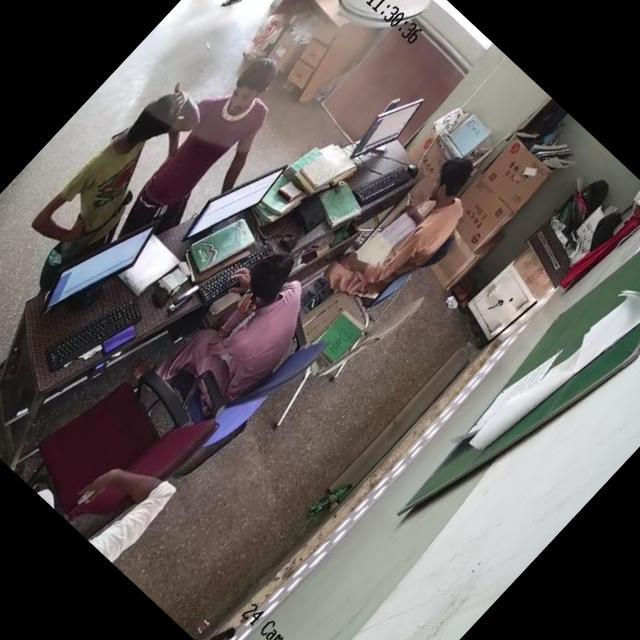person: (38, 80, 204, 254), (334, 148, 496, 316), (130, 58, 288, 220), (191, 244, 336, 391)
